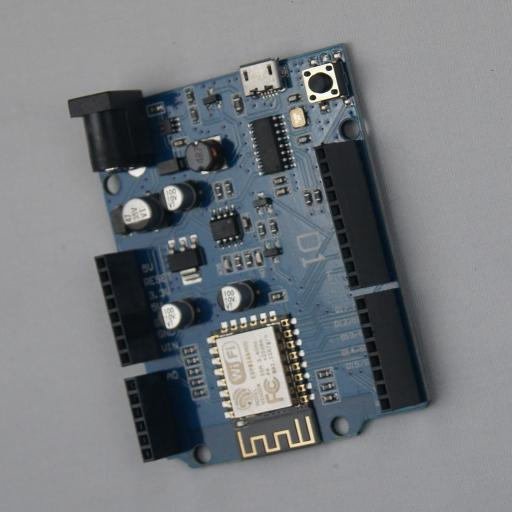Arduino Uno WiFi Shield: (68, 43, 440, 468)
